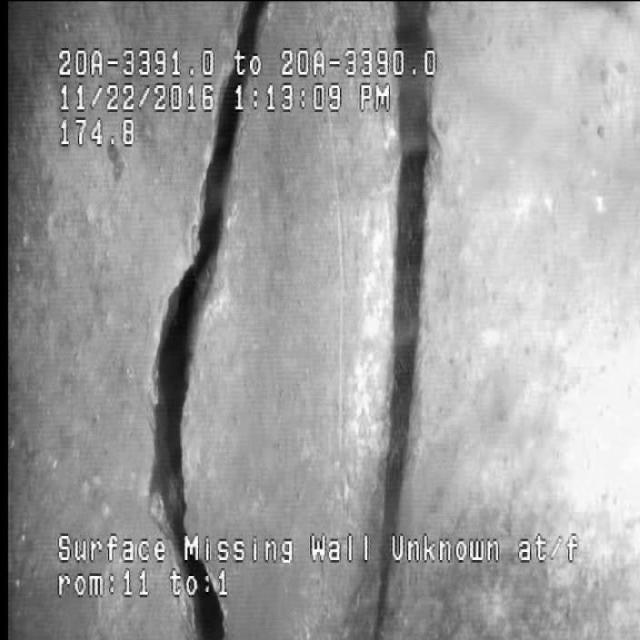Fracture: (139, 133, 251, 533)
